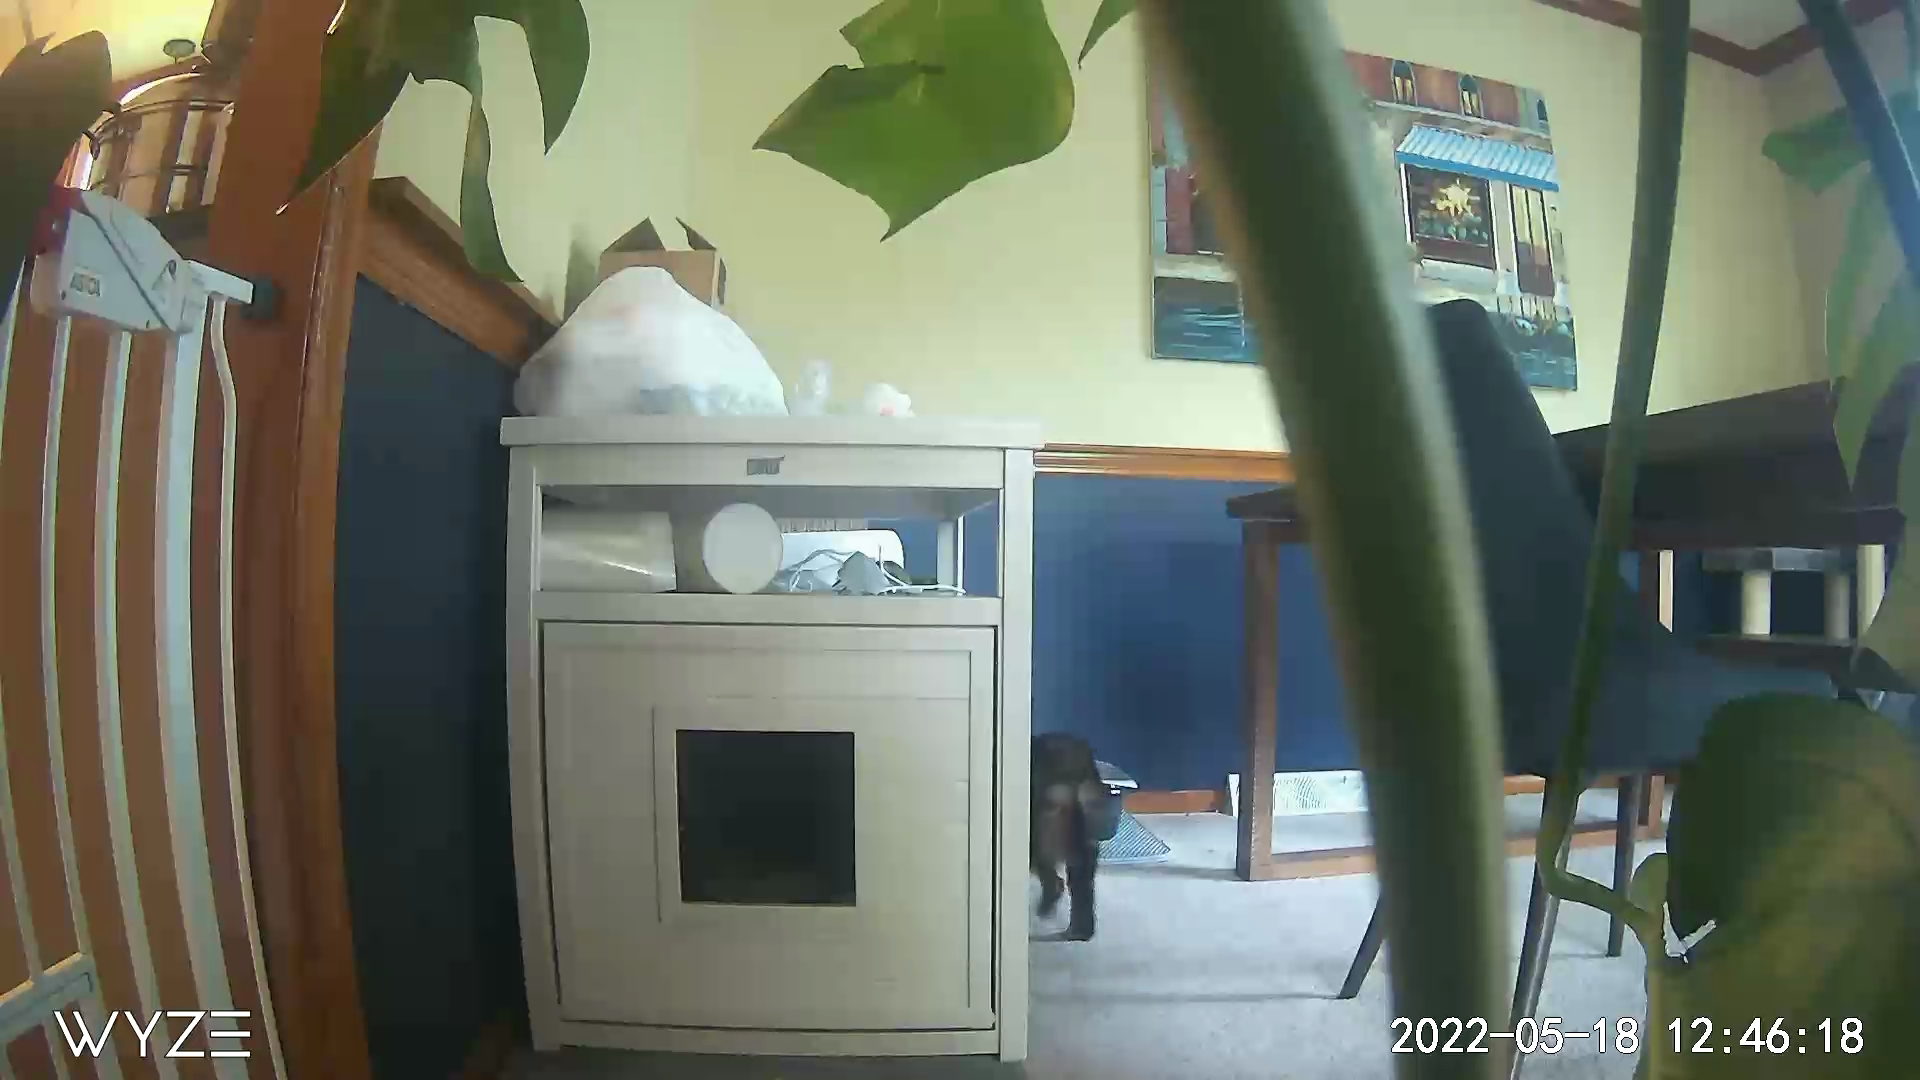sparky: (1029, 732, 1126, 942)
